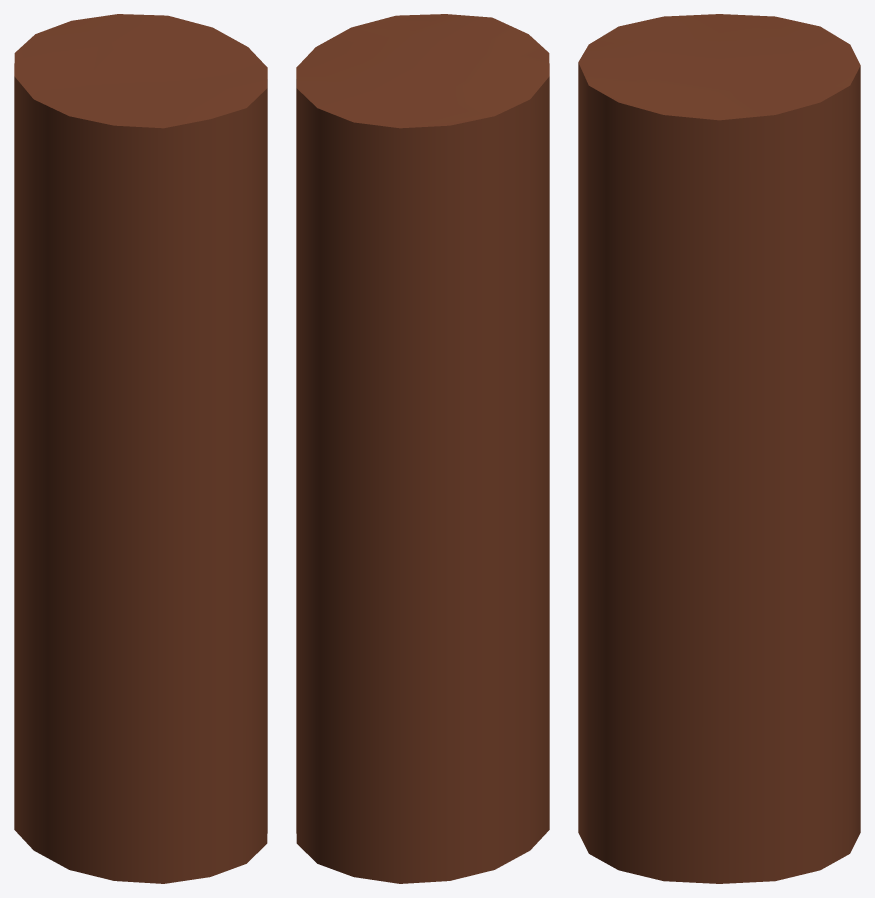
The model's file is Wooden_PlankVert.fbx.
3 renders of one model, left to right at view 1: azimuth 30°, elevation 25°; view 2: azimuth 150°, elevation 25°; view 3: azimuth 270°, elevation 25°, orthographic.
Parts seen in each view (by area): view 1: Wooden_Plank; view 2: Wooden_Plank; view 3: Wooden_Plank.
Part boxes in pixels (bbox=[...]): Wooden_Plank: bbox=[14, 14, 267, 883]; Wooden_Plank: bbox=[296, 14, 549, 883]; Wooden_Plank: bbox=[578, 14, 860, 883].
Size of the model in its own units: 88.51 by 299 by 99.29.
